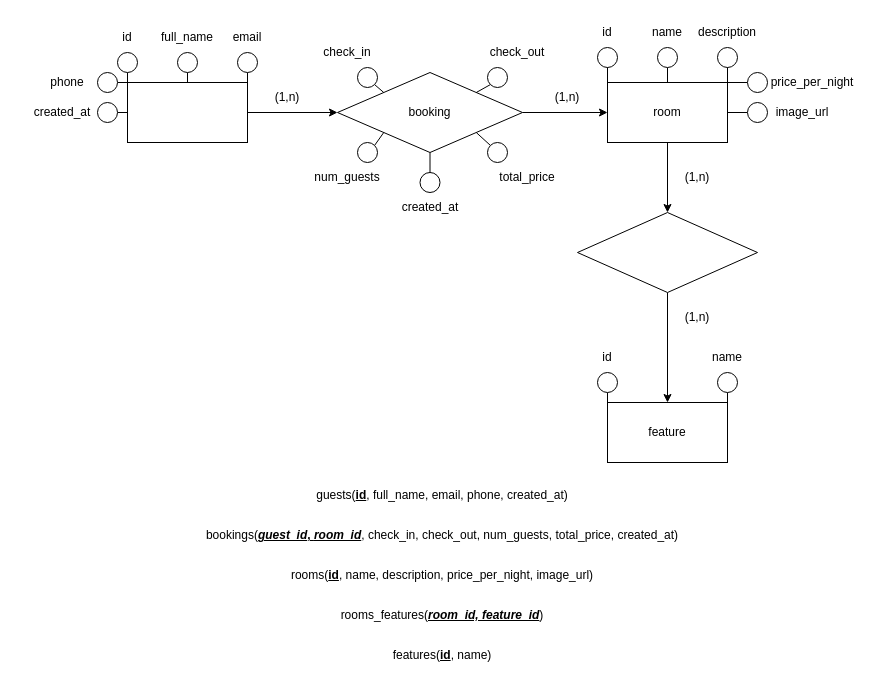
The diagram is 884 pixels wide and 687 high, and some of its shapes have lost their labels. The centre of each missing label's shape, as x and y in pixels:
"guest" goes at (187,112).
"room_feature" goes at (667,252).
